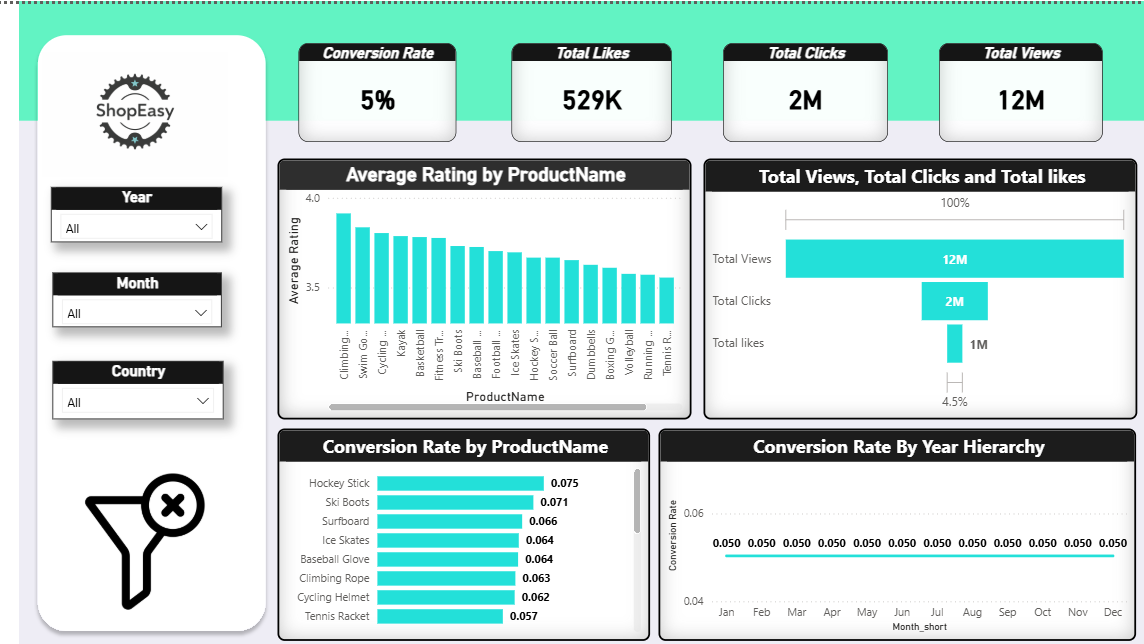

What the dashboard file says about the page in this screenshot:
{"tool":"powerbi","page":{"name":"OverView","canvas":[1280,720],"ordinal":2},"visuals":[{"type":"clusteredColumnChart","fields":{"Y":["MeasuresTable.Average Rating"],"Category":["NewProducts.ProductName"]},"box":[315.3,170.8,459.7,290.3],"z":0},{"type":"clusteredBarChart","title":"Conversion Rate by ProductName","fields":{"Y":["MeasuresTable.Conversion Rate"],"Category":["NewProducts.ProductName"]},"box":[315.3,472.2,413.9,236.1],"z":1000},{"type":"lineChart","title":"Conversion Rate By Year Hierarchy ","fields":{"Y":["MeasuresTable.Conversion Rate"],"Category":["Calendar.Year Hierarchy.Year","Calendar.Year Hierarchy.Quarter","Calendar.Year Hierarchy.Month_short","Calendar.Year Hierarchy.Date"]},"box":[738.9,472.2,530.6,236.1],"z":2000},{"type":"funnel","title":"Total Views, Total Clicks and Total likes","fields":{"Y":["MeasuresTable.Total Views","MeasuresTable.Total Clicks","MeasuresTable.Total likes"]},"box":[787.5,170.8,481.9,290.3],"z":3000},{"type":"card","title":"Total Views","fields":{"Values":["MeasuresTable.Total Views"]},"box":[1050,43.1,181.9,109.7],"z":4000},{"type":"card","title":"Total Clicks","fields":{"Values":["MeasuresTable.Total Clicks"]},"box":[809.7,43.1,183.3,109.7],"z":5000},{"type":"card","title":"Total Likes","fields":{"Values":["MeasuresTable.Total likes"]},"box":[575,43.1,177.8,109.7],"z":6000},{"type":"card","title":"Conversion Rate","fields":{"Values":["MeasuresTable.Conversion Rate"]},"box":[337.5,43.1,175,109.7],"z":7000},{"type":"image","box":[49.5,52.8,213.3,138.6],"z":8000},{"type":"slicer","title":"Year","fields":{"Values":["Calendar.Year"]},"box":[62.7,203.4,190.2,61.6],"z":9000},{"type":"slicer","title":"Month","fields":{"Values":["Calendar.Month_short"]},"box":[64.9,299.1,188,60.5],"z":10000},{"type":"slicer","title":"Country","fields":{"Values":["NewGeography.Country"]},"box":[64.9,395.9,190.2,64.9],"z":11000},{"type":"image","box":[73.6,520.8,188.9,151.4],"z":13000}]}

Visuals, with their boxes in screenshot pixels (x1, y1, x2, y2), scaled from the page's 1280x720 canvas onto the 1144x644 screenshot:
clusteredColumnChart - MeasuresTable.Average Rating x NewProducts.ProductName: locate(282, 153, 693, 412)
"Conversion Rate by ProductName" clusteredBarChart: locate(282, 422, 652, 634)
"Conversion Rate By Year Hierarchy " lineChart: locate(660, 422, 1135, 634)
"Total Views, Total Clicks and Total likes" funnel: locate(704, 153, 1135, 412)
"Total Views" card: locate(938, 39, 1101, 137)
"Total Clicks" card: locate(724, 39, 887, 137)
"Total Likes" card: locate(514, 39, 673, 137)
"Conversion Rate" card: locate(302, 39, 458, 137)
image: locate(44, 47, 235, 171)
"Year" slicer: locate(56, 182, 226, 237)
"Month" slicer: locate(58, 268, 226, 322)
"Country" slicer: locate(58, 354, 228, 412)
image: locate(66, 466, 235, 601)
